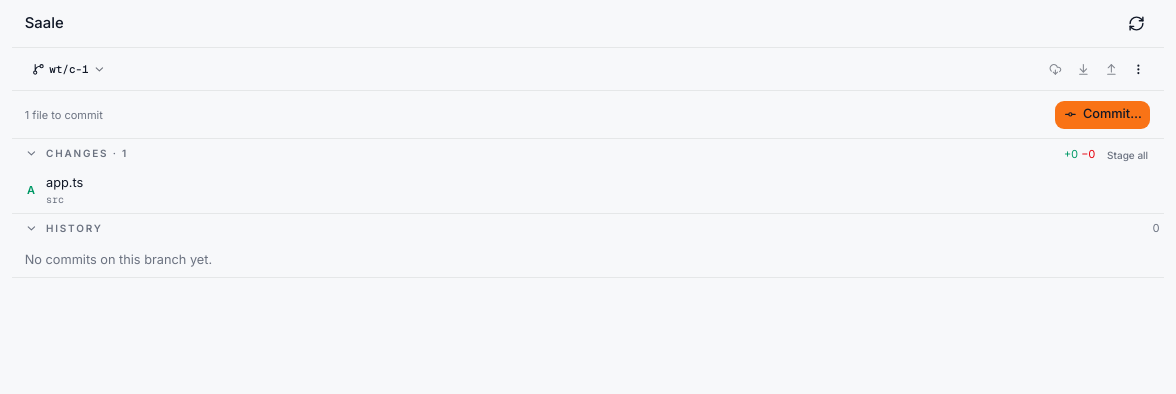
Test: ChangesView: a file's diff › reads a diff for a text file
Click the button titled "src/app.ts" at (65, 182), box [12, 168, 1102, 213]
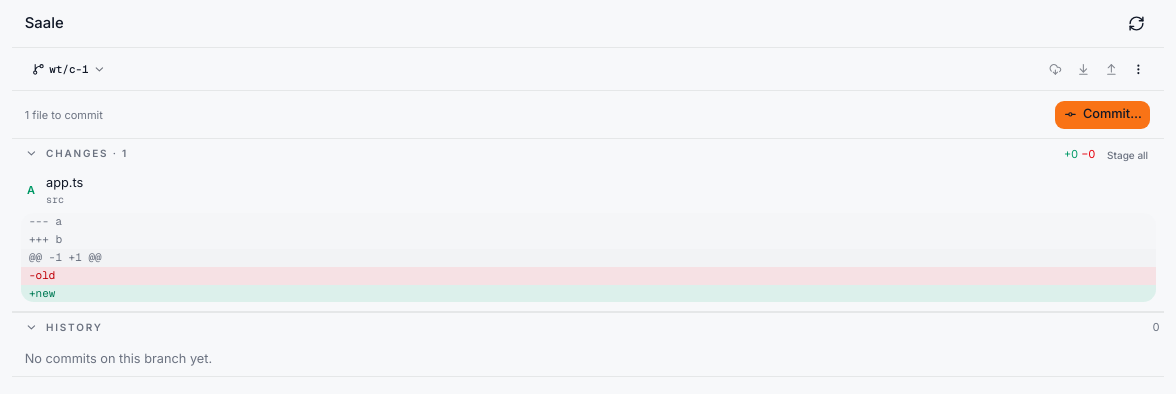
Expected: the text "+new" is shown, [20, 285, 1156, 302]
